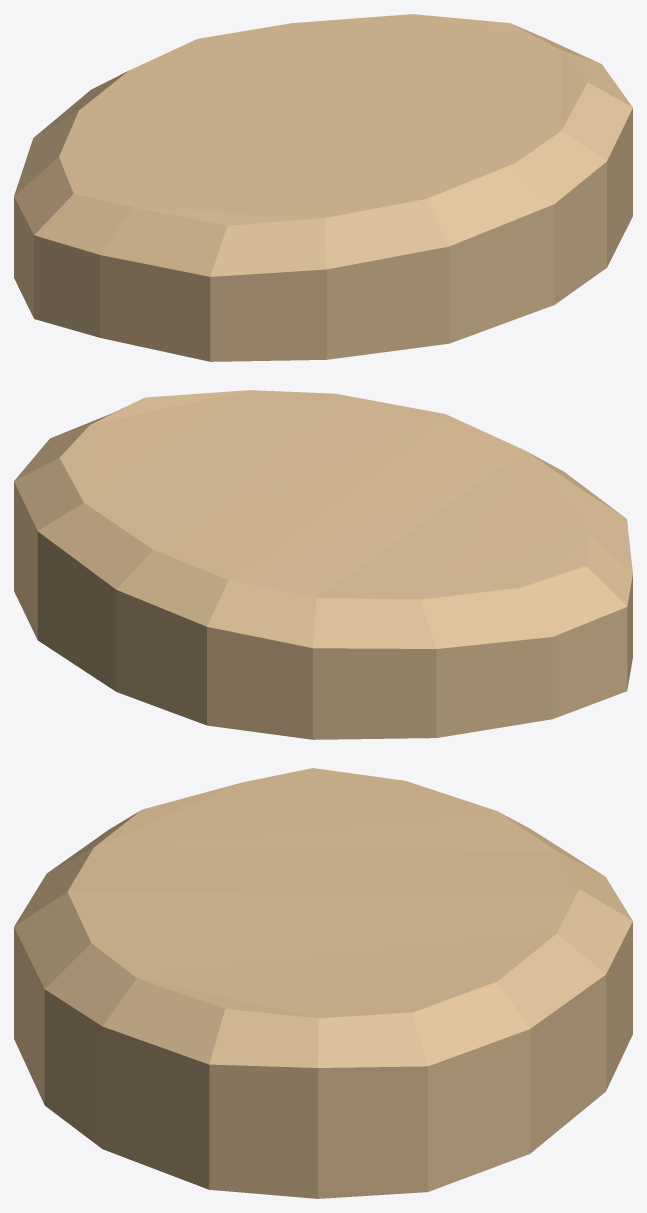
Rendered from terrace_stone_worn.fbx.
The picture shows the model from 3 angles, top to bottom: view 1: azimuth 30°, elevation 25°; view 2: azimuth 150°, elevation 25°; view 3: azimuth 270°, elevation 25°; orthographic projection. The views are drawn at different scales.
Visible parts, largest first — view 1: Terrace_Stone_Worn; view 2: Terrace_Stone_Worn; view 3: Terrace_Stone_Worn.
Boxes of the visible parts, box(x1,y1,x2,y2) form: Terrace_Stone_Worn: box(14, 14, 632, 361); Terrace_Stone_Worn: box(14, 390, 632, 739); Terrace_Stone_Worn: box(14, 768, 632, 1198).
Size of the model in its own units: 85.13 by 19.71 by 69.37.
